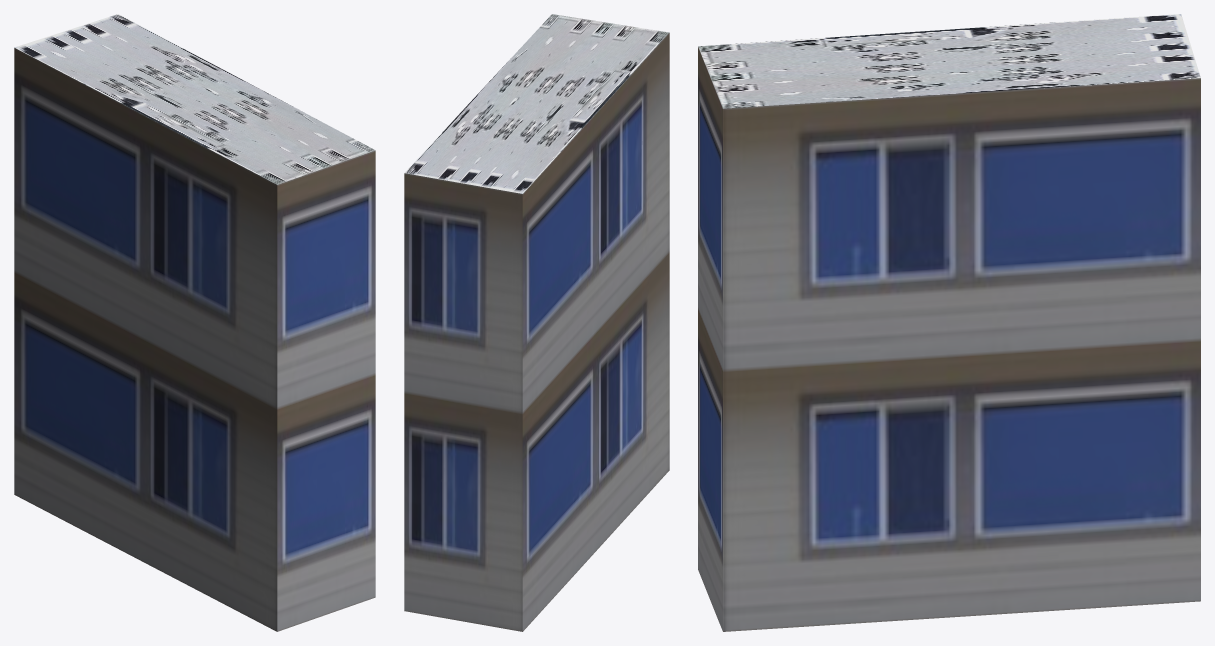
File: ResTex__2645.fbx
3 renders of one model, left to right at view 1: azimuth 30°, elevation 25°; view 2: azimuth 150°, elevation 25°; view 3: azimuth 270°, elevation 25°, orthographic. The views are drawn at different scales.
Visible parts, largest first — view 1: CityEngineMaterial_23_m, CityEngineMaterial_4_m; view 2: CityEngineMaterial_23_m, CityEngineMaterial_4_m; view 3: CityEngineMaterial_23_m, CityEngineMaterial_4_m.
Boxes of the visible parts, bbox=[...] form: CityEngineMaterial_23_m: bbox=[14, 48, 375, 631]; CityEngineMaterial_4_m: bbox=[14, 14, 375, 184]; CityEngineMaterial_23_m: bbox=[404, 33, 669, 631]; CityEngineMaterial_4_m: bbox=[404, 14, 669, 193]; CityEngineMaterial_23_m: bbox=[698, 47, 1200, 631]; CityEngineMaterial_4_m: bbox=[698, 14, 1200, 108].
Bounding box in the file's own units: 2.33 × 6 × 5.23.
2 materials, 2 textured.
